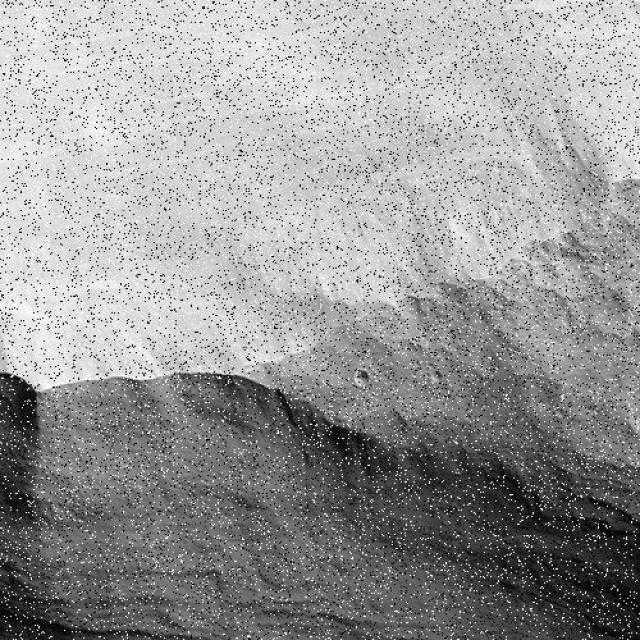crater: (18, 0, 70, 37), (253, 0, 315, 27), (606, 0, 640, 32), (321, 0, 366, 22), (621, 539, 640, 589), (614, 0, 640, 35), (80, 0, 118, 23), (346, 364, 374, 389), (552, 405, 571, 421), (172, 257, 190, 273), (573, 0, 599, 10), (429, 369, 445, 384), (484, 353, 500, 368), (390, 278, 404, 294), (335, 160, 350, 173), (424, 358, 437, 372), (452, 297, 464, 310), (463, 412, 475, 422), (504, 362, 515, 372), (633, 431, 640, 445), (585, 398, 595, 406), (408, 371, 418, 377), (633, 317, 640, 325), (424, 371, 431, 378), (415, 360, 420, 366)
